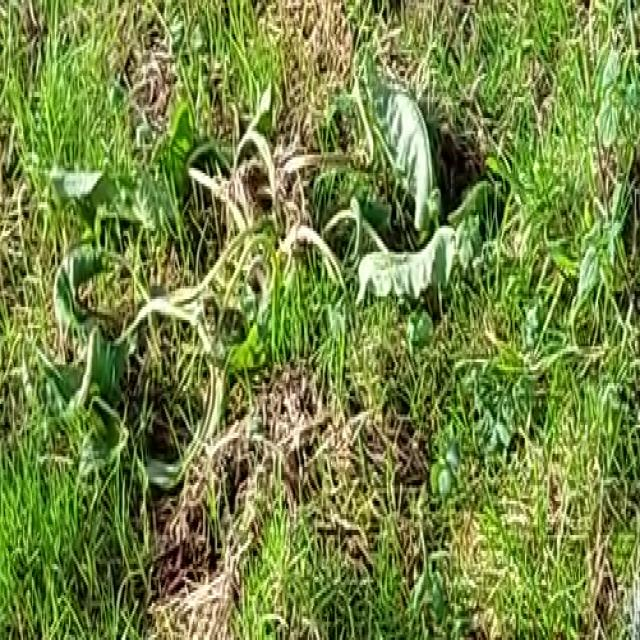organic waste: (36, 34, 508, 493)
